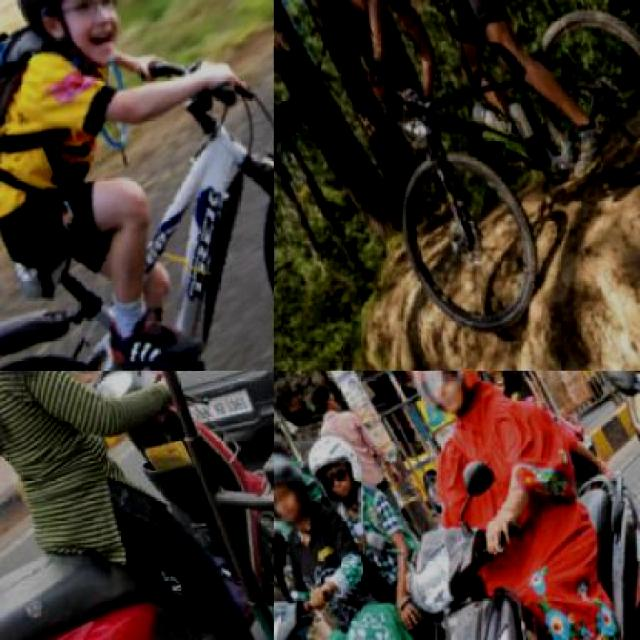With Helmet: (0, 0, 163, 97), (300, 426, 374, 514), (392, 371, 494, 432), (274, 436, 324, 544), (311, 0, 380, 25), (466, 371, 512, 386)
